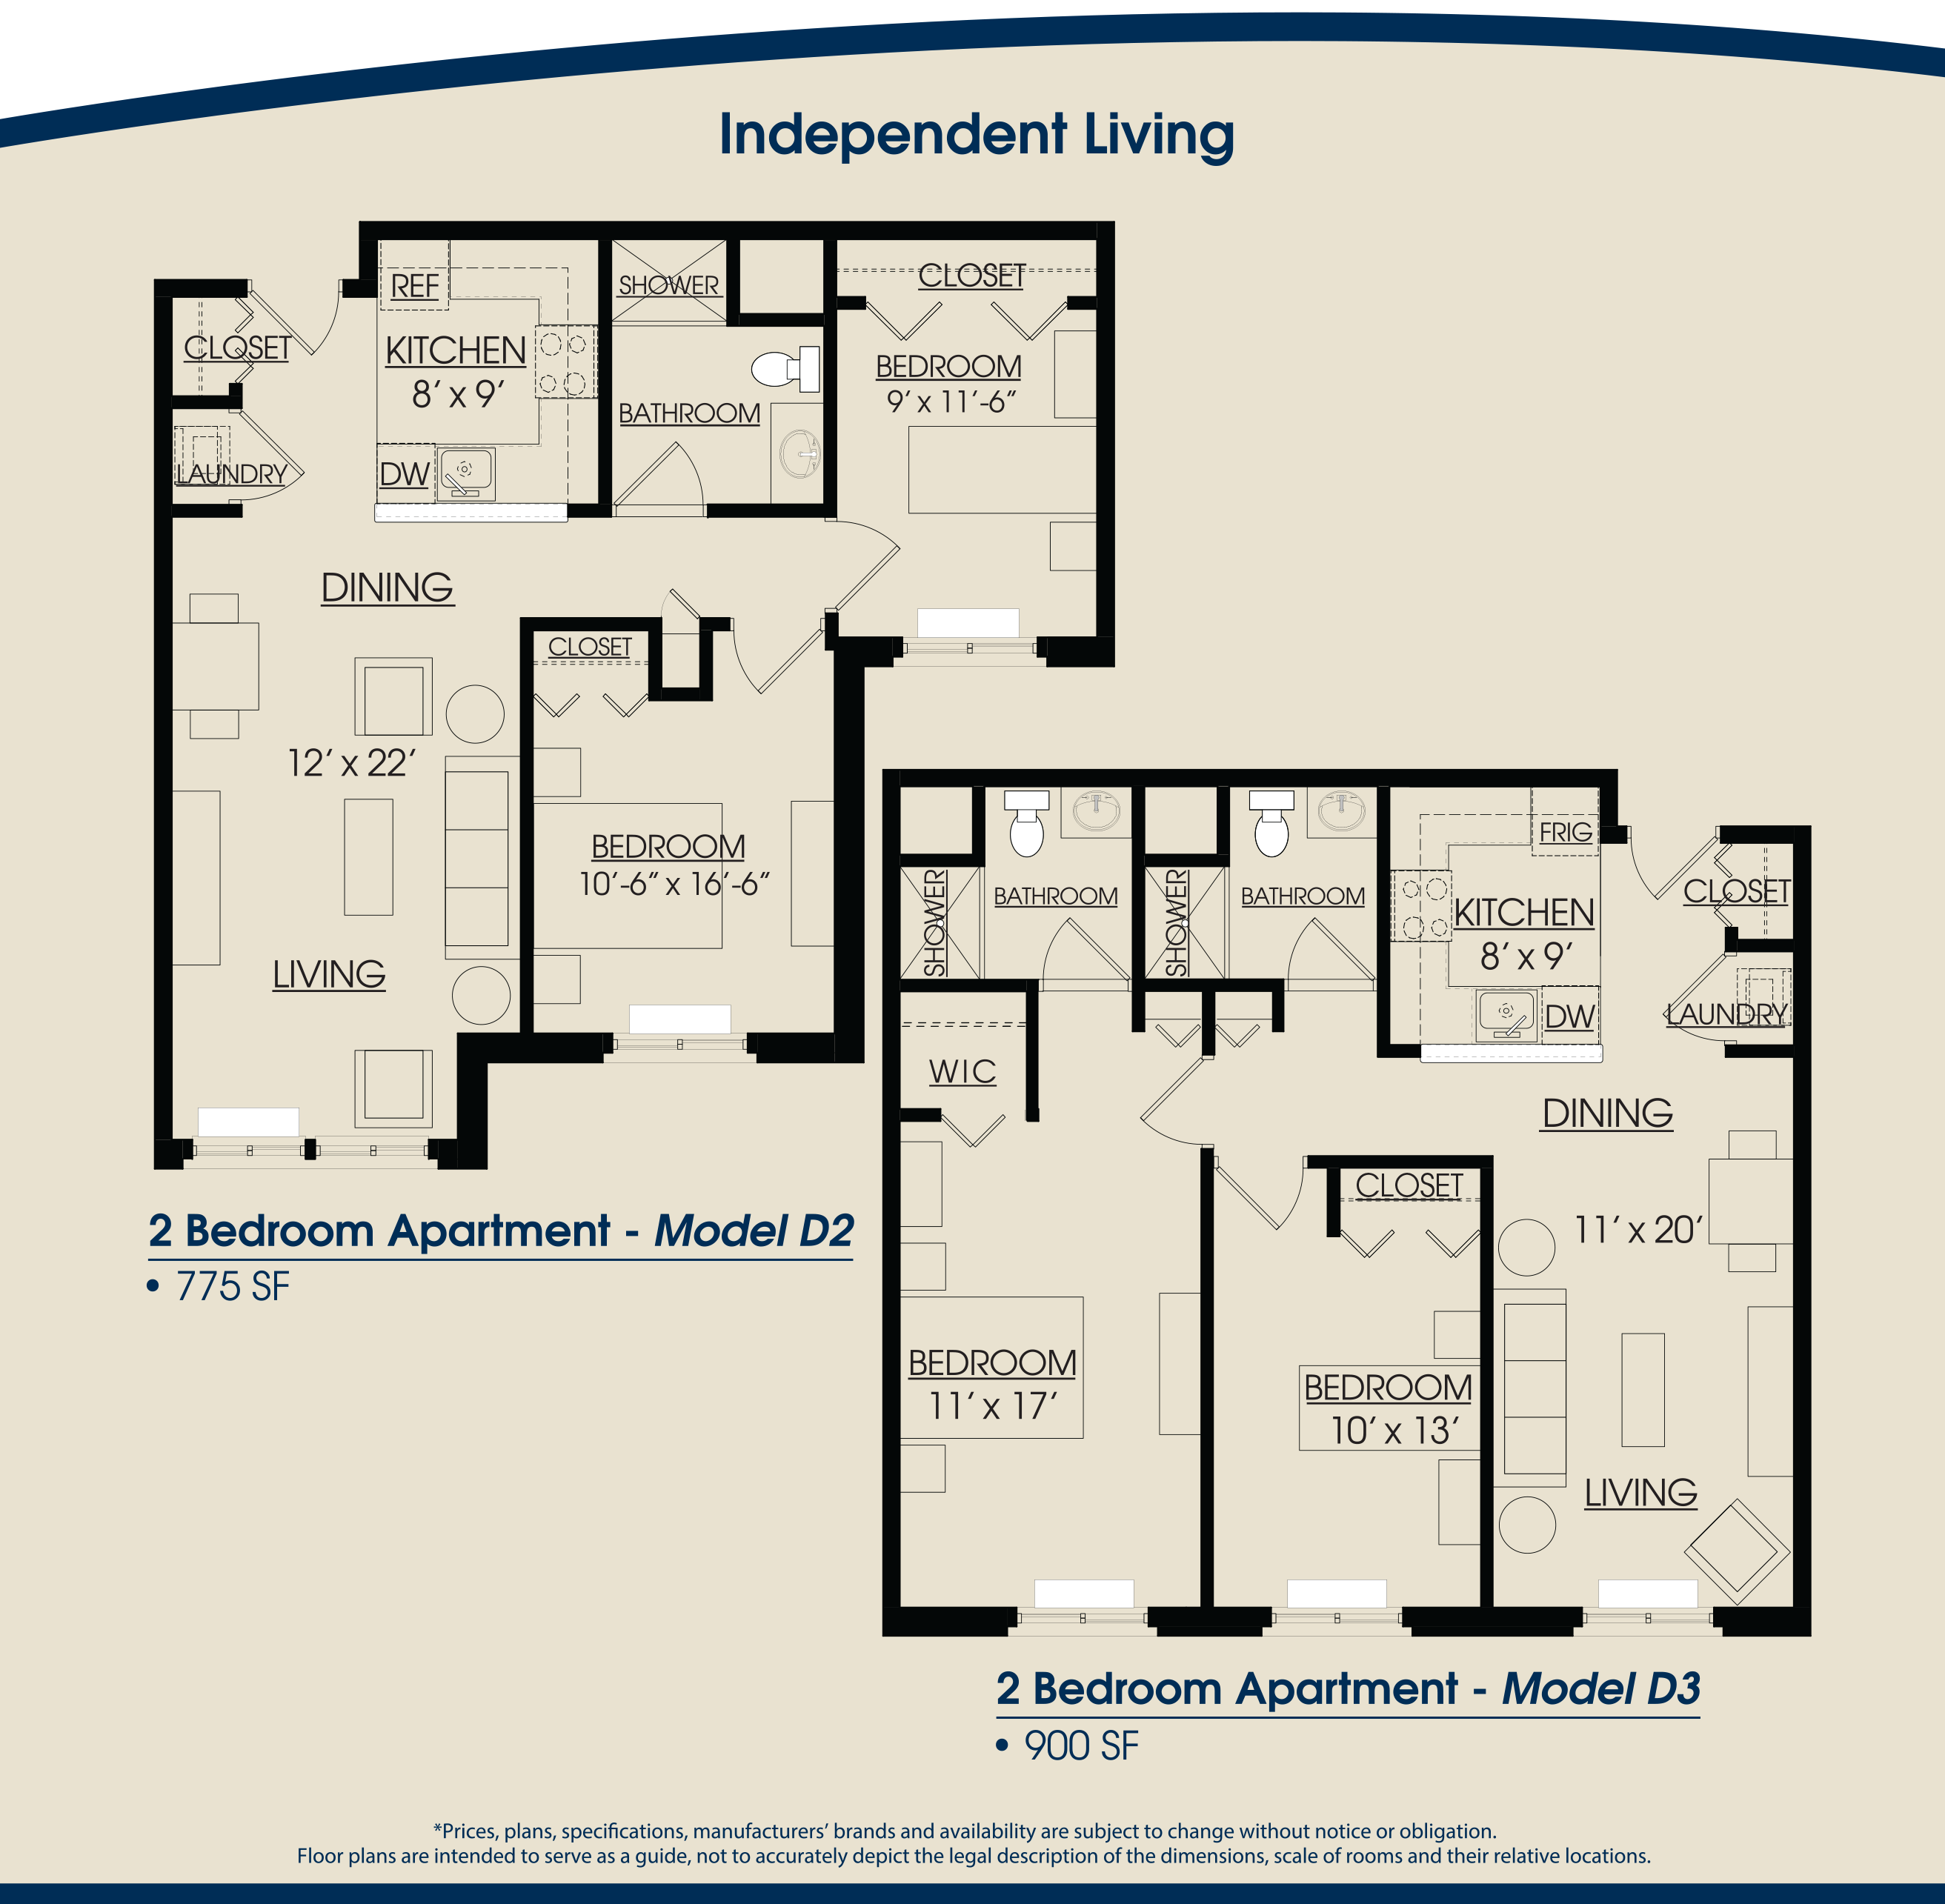door: (724, 629, 823, 699), (839, 516, 905, 614), (841, 275, 940, 340), (618, 439, 717, 504), (1273, 912, 1373, 976), (984, 286, 1083, 349), (1218, 1170, 1312, 1236), (256, 302, 354, 364), (1029, 914, 1132, 973), (1659, 957, 1723, 1046), (249, 415, 311, 504), (1134, 1062, 1198, 1144), (1617, 846, 1708, 903), (1423, 1214, 1483, 1268), (940, 1105, 1003, 1154), (1340, 1224, 1396, 1264), (593, 692, 651, 731), (534, 690, 583, 731), (1155, 1017, 1202, 1057), (656, 579, 703, 614), (1216, 1022, 1263, 1055), (1710, 844, 1743, 879)
